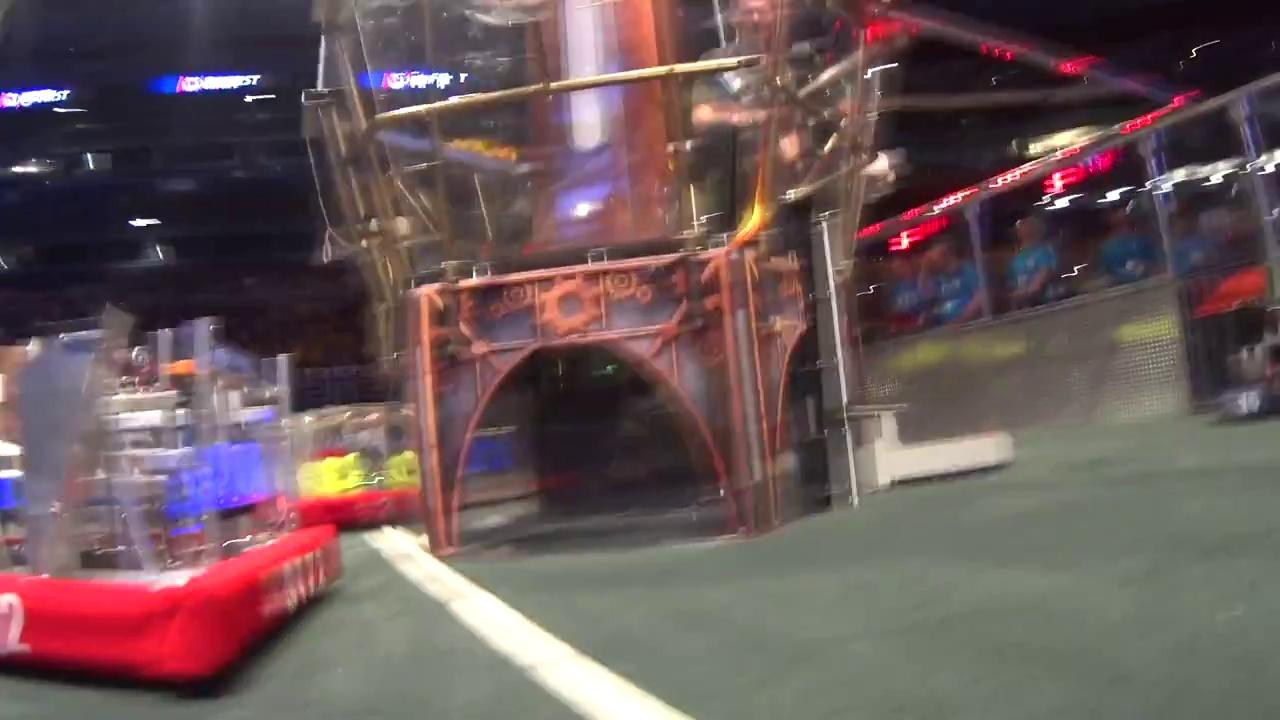robot: (0, 313, 340, 704), (293, 393, 421, 536)
